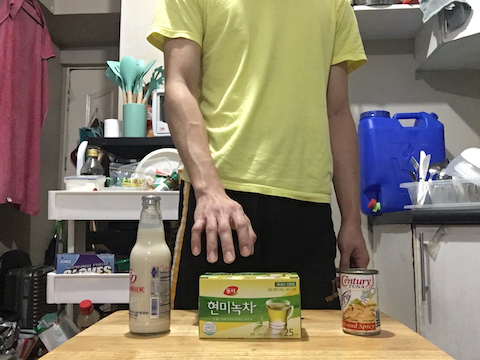bottle: (126, 192, 178, 338)
box: (195, 268, 307, 343)
can: (335, 264, 386, 338)
